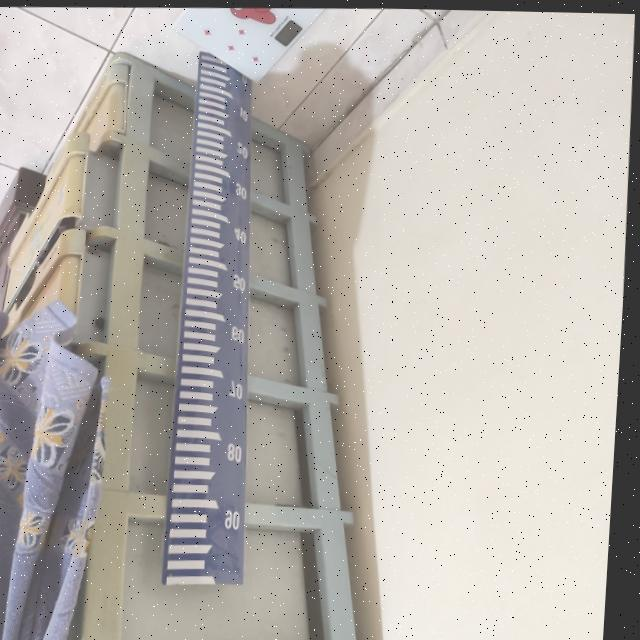water-meter: (143, 42, 288, 595)
